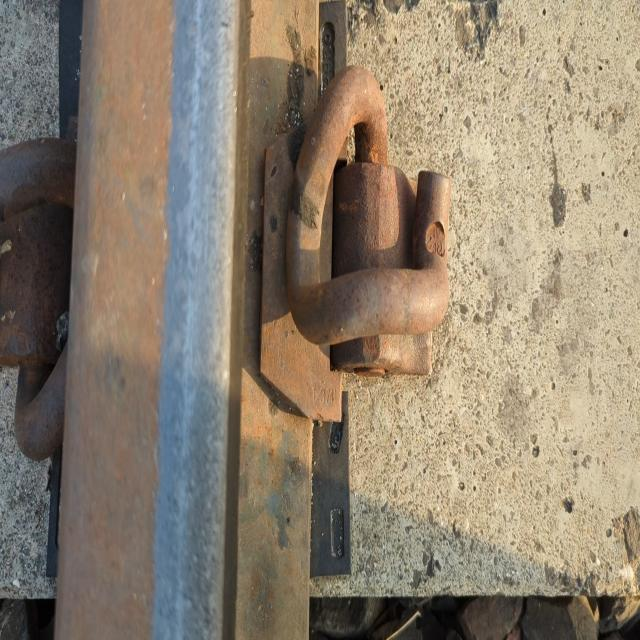overrailed: (256, 56, 532, 427)
